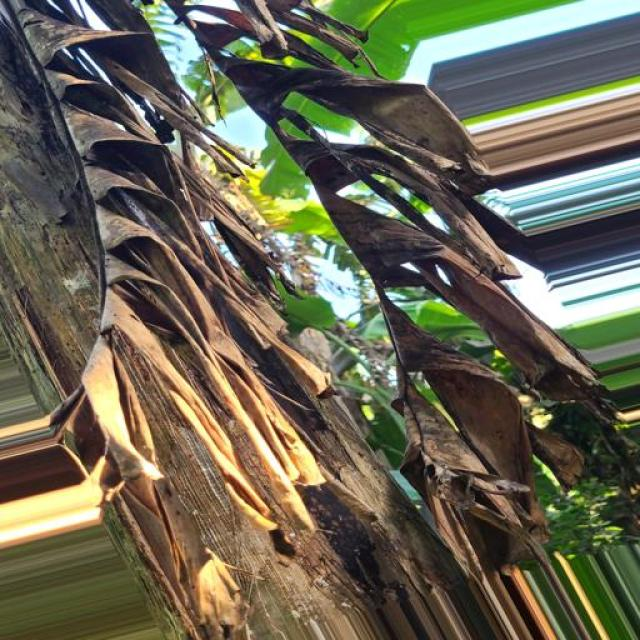Bract_mosaic_virus: (2, 0, 625, 640)
